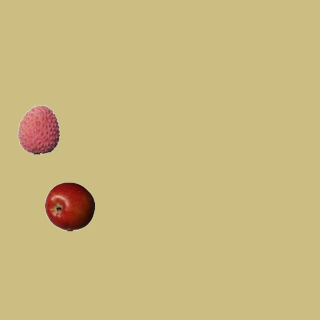Apple Braeburn: (44, 181, 94, 231)
Lychee: (13, 104, 63, 154)
